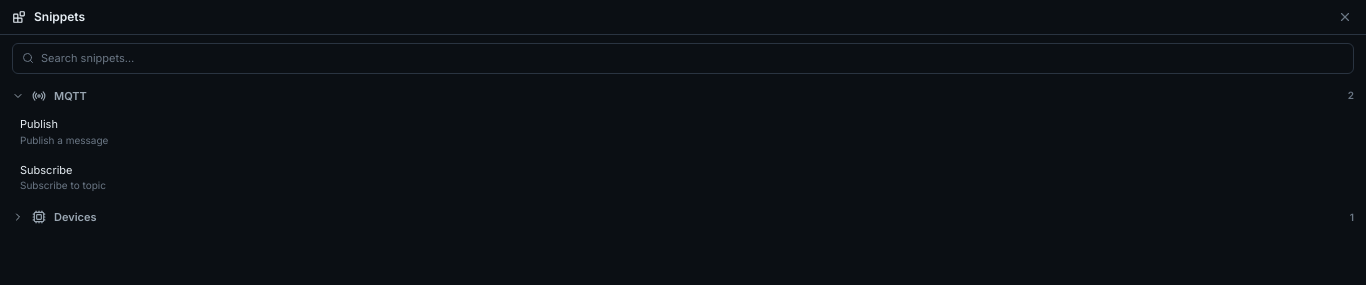
Test case: SnippetPicker › toggling a collapsed group expands it
Expected: the text "Toggle" is not shown
Click the text "Devices": [75, 217] box x1=54 y1=209 x2=96 y2=226
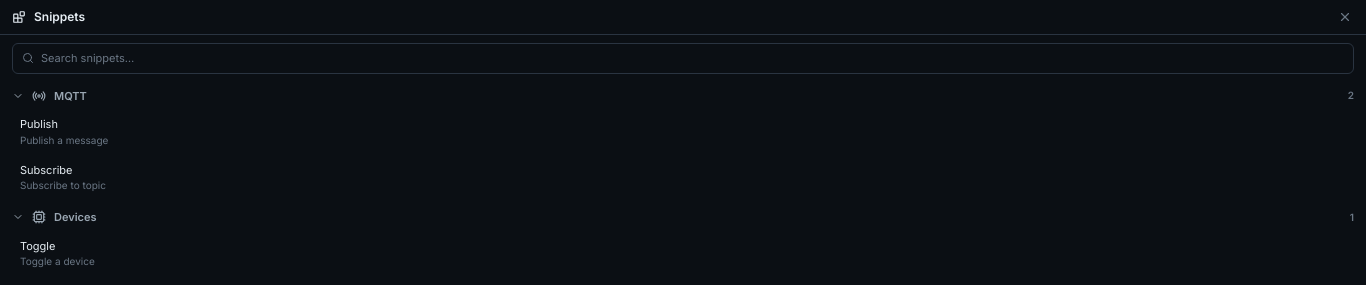
Expected: the text "Toggle" is shown, x1=20 y1=238 x2=55 y2=252
